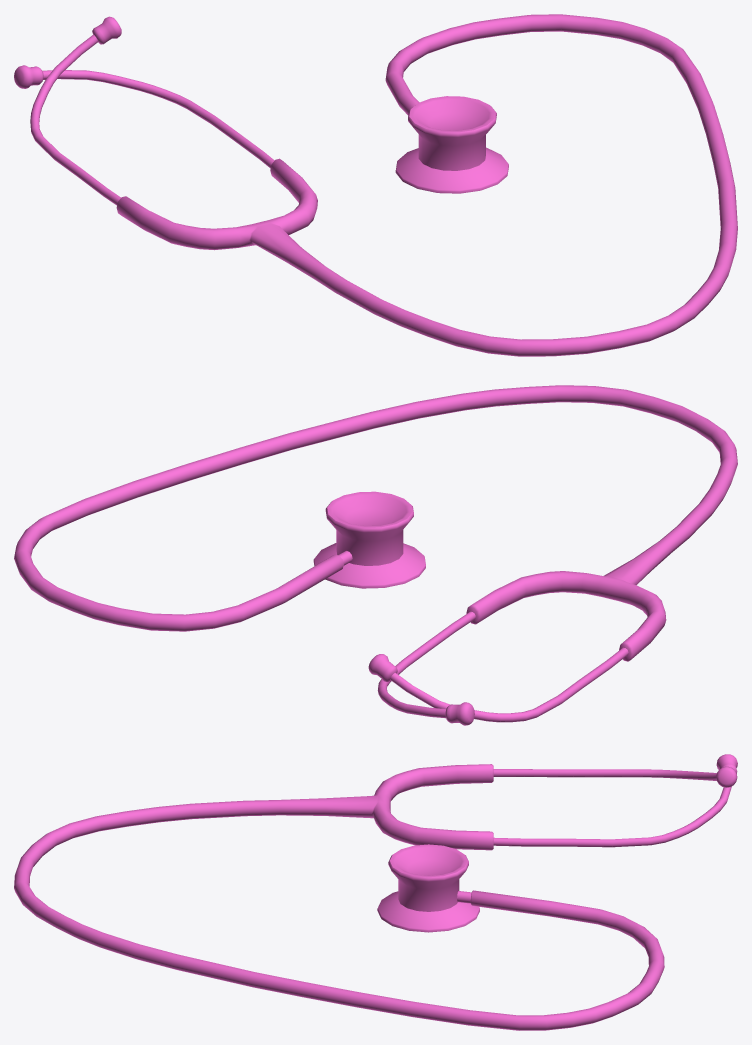
Rendered from Predressed_combination.fbx.
3 views of the same model, one above another, from view 1: azimuth 30°, elevation 25°; view 2: azimuth 150°, elevation 25°; view 3: azimuth 270°, elevation 25° (orthographic). The views are drawn at different scales.
Parts seen in each view (by area): view 1: predressed_combination; view 2: predressed_combination; view 3: predressed_combination.
Part boxes in pixels (left/top/right/bottom): predressed_combination: left=14, top=14, right=737, bottom=356; predressed_combination: left=14, top=385, right=737, bottom=725; predressed_combination: left=14, top=754, right=737, bottom=1030.
Bounding box in the file's own units: 0.358 × 0.0432 × 0.4275.
